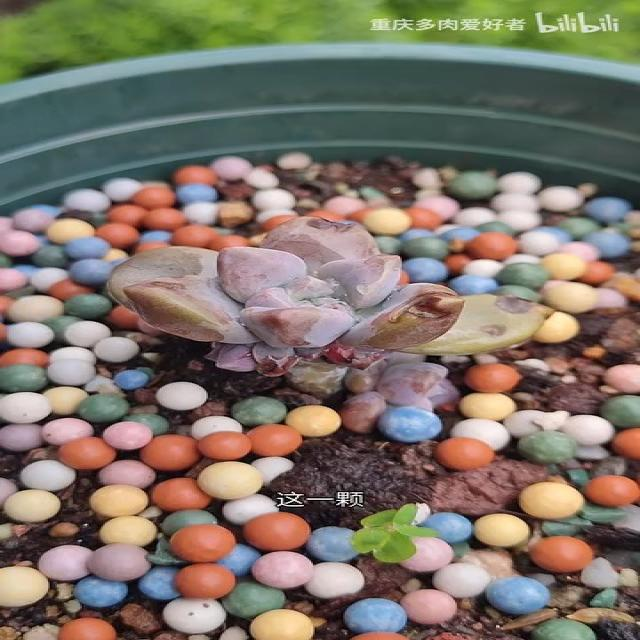-: (400, 297, 460, 321), (300, 217, 372, 237), (254, 355, 308, 377)
